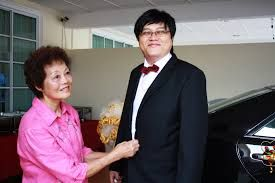no-mask: (20, 48, 85, 100), (132, 12, 181, 60)
